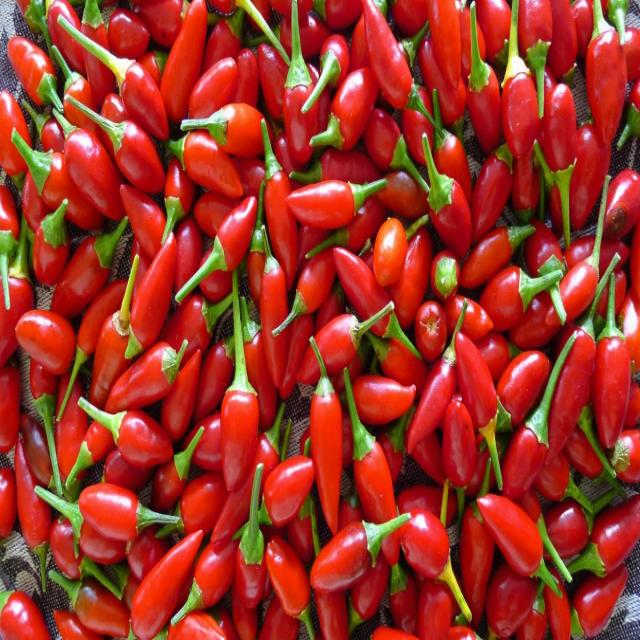chilli: (310, 377, 345, 531), (586, 22, 628, 147), (106, 116, 165, 198), (77, 479, 146, 546), (286, 175, 367, 232), (218, 374, 258, 488), (116, 339, 179, 407), (502, 53, 540, 155), (258, 260, 288, 388), (106, 409, 171, 466), (486, 266, 538, 333), (467, 60, 502, 153), (210, 102, 266, 156)
